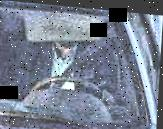seatbelt: (64, 28, 104, 87)
